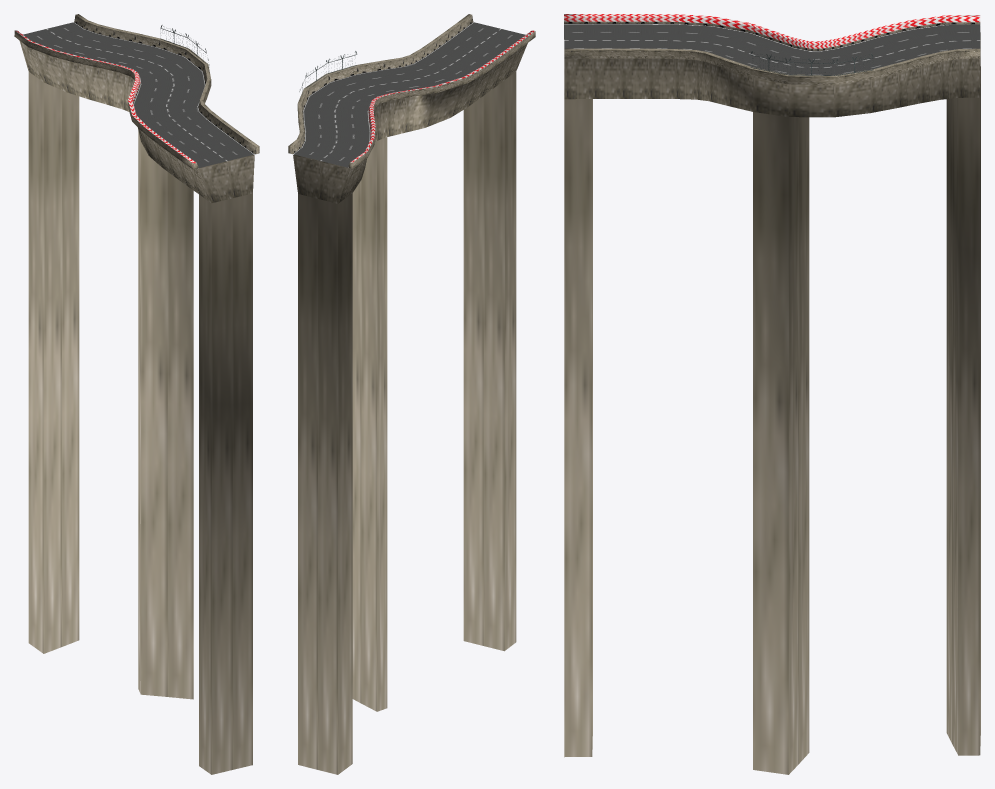
The model's file is Pista Sizq.fbx.
3 renders of one model, left to right at view 1: azimuth 30°, elevation 25°; view 2: azimuth 150°, elevation 25°; view 3: azimuth 270°, elevation 25°, orthographic. The views are drawn at different scales.
Visible parts, largest first — view 1: Plane.001; view 2: Plane.001; view 3: Plane.001.
Part boxes in pixels (box(x1,y1,x2,y2)): Plane.001: box(14, 14, 259, 774); Plane.001: box(288, 14, 535, 774); Plane.001: box(564, 14, 980, 774).
Bounding box in the file's own units: 4128 × 21832 × 11326.
